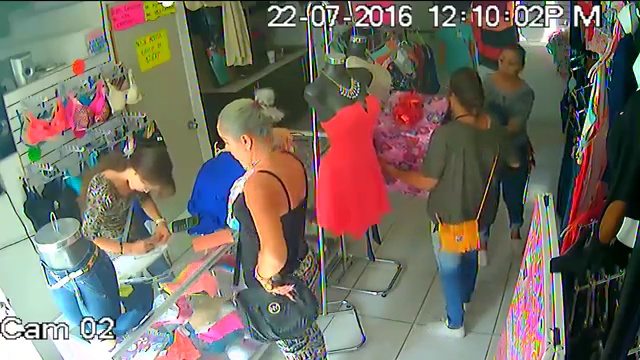face: (217, 117, 250, 163), (500, 51, 520, 75)
